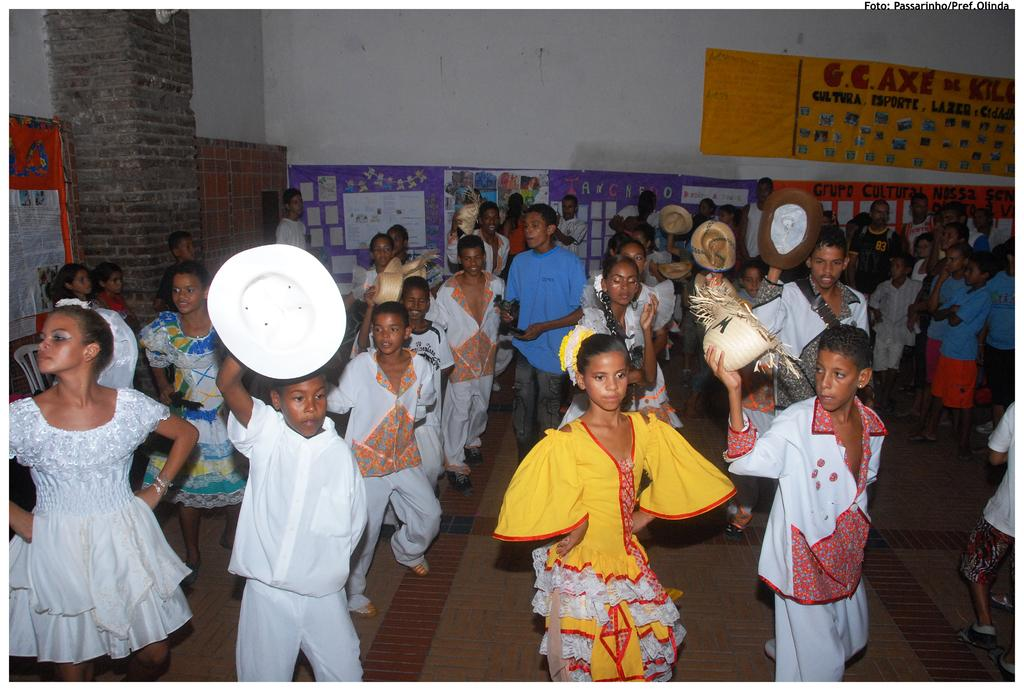Hat: (204, 239, 346, 380), (687, 275, 798, 373), (754, 187, 818, 272), (688, 219, 734, 269), (380, 253, 440, 282), (368, 254, 401, 305), (658, 203, 691, 233), (456, 190, 473, 234)
